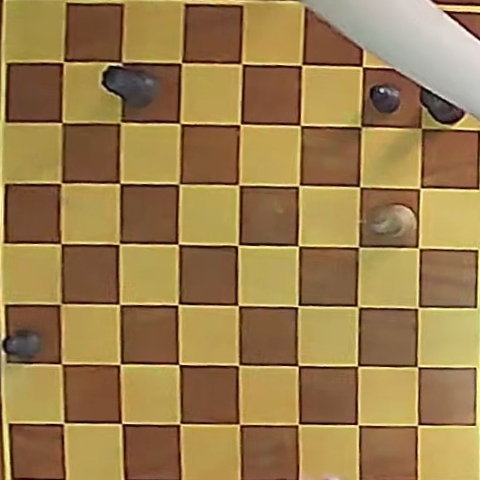black-king: (419, 88, 464, 124)
black-pawn: (3, 330, 42, 360), (370, 83, 402, 113)
black-queen: (103, 65, 160, 109)
white-king: (367, 204, 415, 239)
